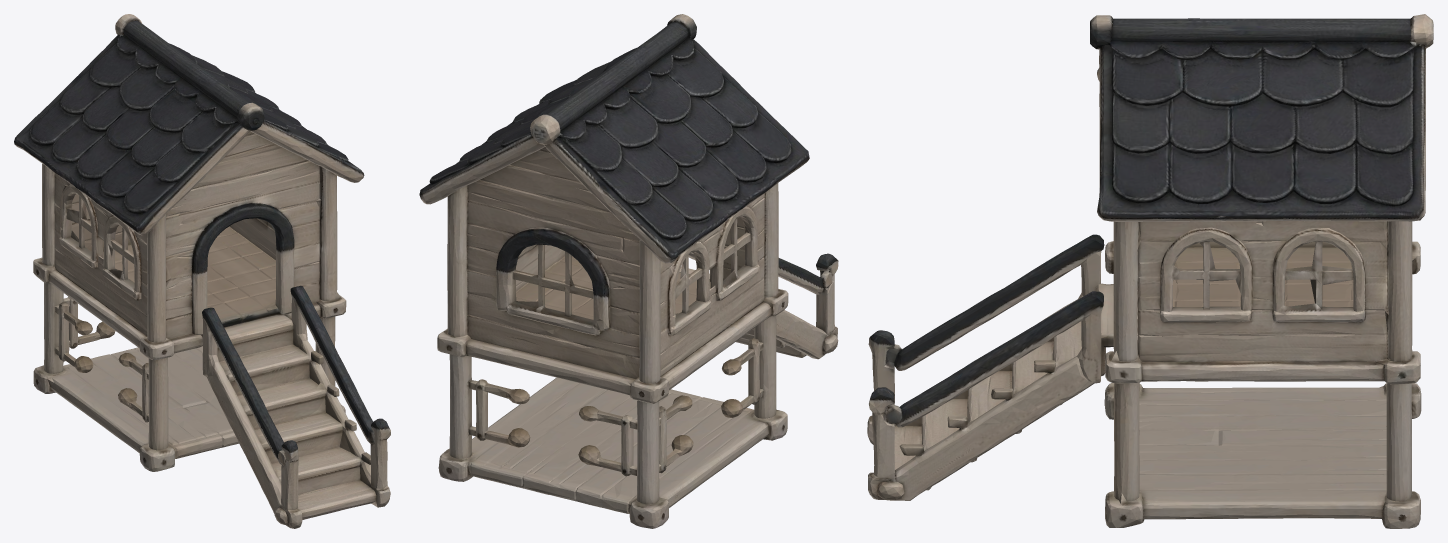
File: DOM_budka_8__white.glb
3 views of the same model, side by side, from view 1: azimuth 30°, elevation 25°; view 2: azimuth 150°, elevation 25°; view 3: azimuth 270°, elevation 25° (orthographic). The views are drawn at different scales.
Visible parts, largest first — view 1: tripo_node_ac6729f5-73c2-4e4e-95e1-3ff5b1cdb705; view 2: tripo_node_ac6729f5-73c2-4e4e-95e1-3ff5b1cdb705; view 3: tripo_node_ac6729f5-73c2-4e4e-95e1-3ff5b1cdb705.
Part boxes in pixels (x1=…): tripo_node_ac6729f5-73c2-4e4e-95e1-3ff5b1cdb705: x1=14, y1=14, x2=390, y2=528; tripo_node_ac6729f5-73c2-4e4e-95e1-3ff5b1cdb705: x1=419, y1=14, x2=838, y2=528; tripo_node_ac6729f5-73c2-4e4e-95e1-3ff5b1cdb705: x1=867, y1=14, x2=1433, y2=528.
Size of the model in its own units: 2.76 by 4 by 4.52.
1 material, 1 textured.
